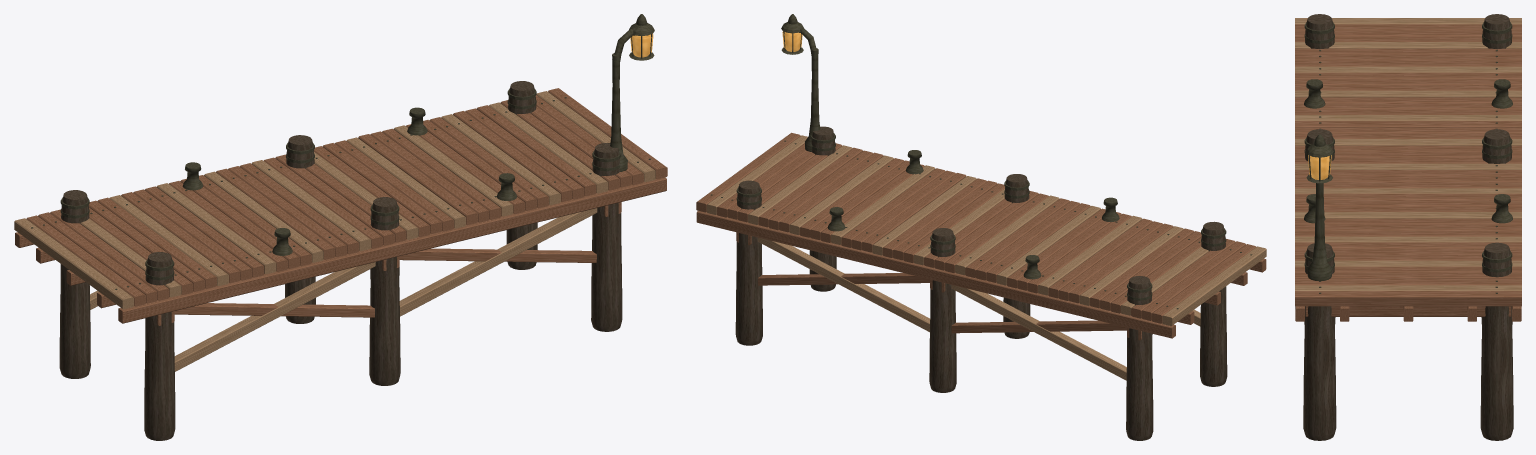
The model's file is wooden_dock.glb.
The picture shows the model from 3 angles, left to right: view 1: azimuth 30°, elevation 25°; view 2: azimuth 150°, elevation 25°; view 3: azimuth 270°, elevation 25°; orthographic projection. The views are drawn at different scales.
Parts seen in each view (by area): view 1: wooden_dock; view 2: wooden_dock; view 3: wooden_dock.
Boxes of the visible parts, x1,y1,x2,y2 form: wooden_dock: [14, 14, 667, 440]; wooden_dock: [696, 14, 1266, 440]; wooden_dock: [1295, 14, 1521, 440].
Size of the model in its own units: 6.4 by 3.4 by 2.2.
Materials: 2 (2 with a texture image).
